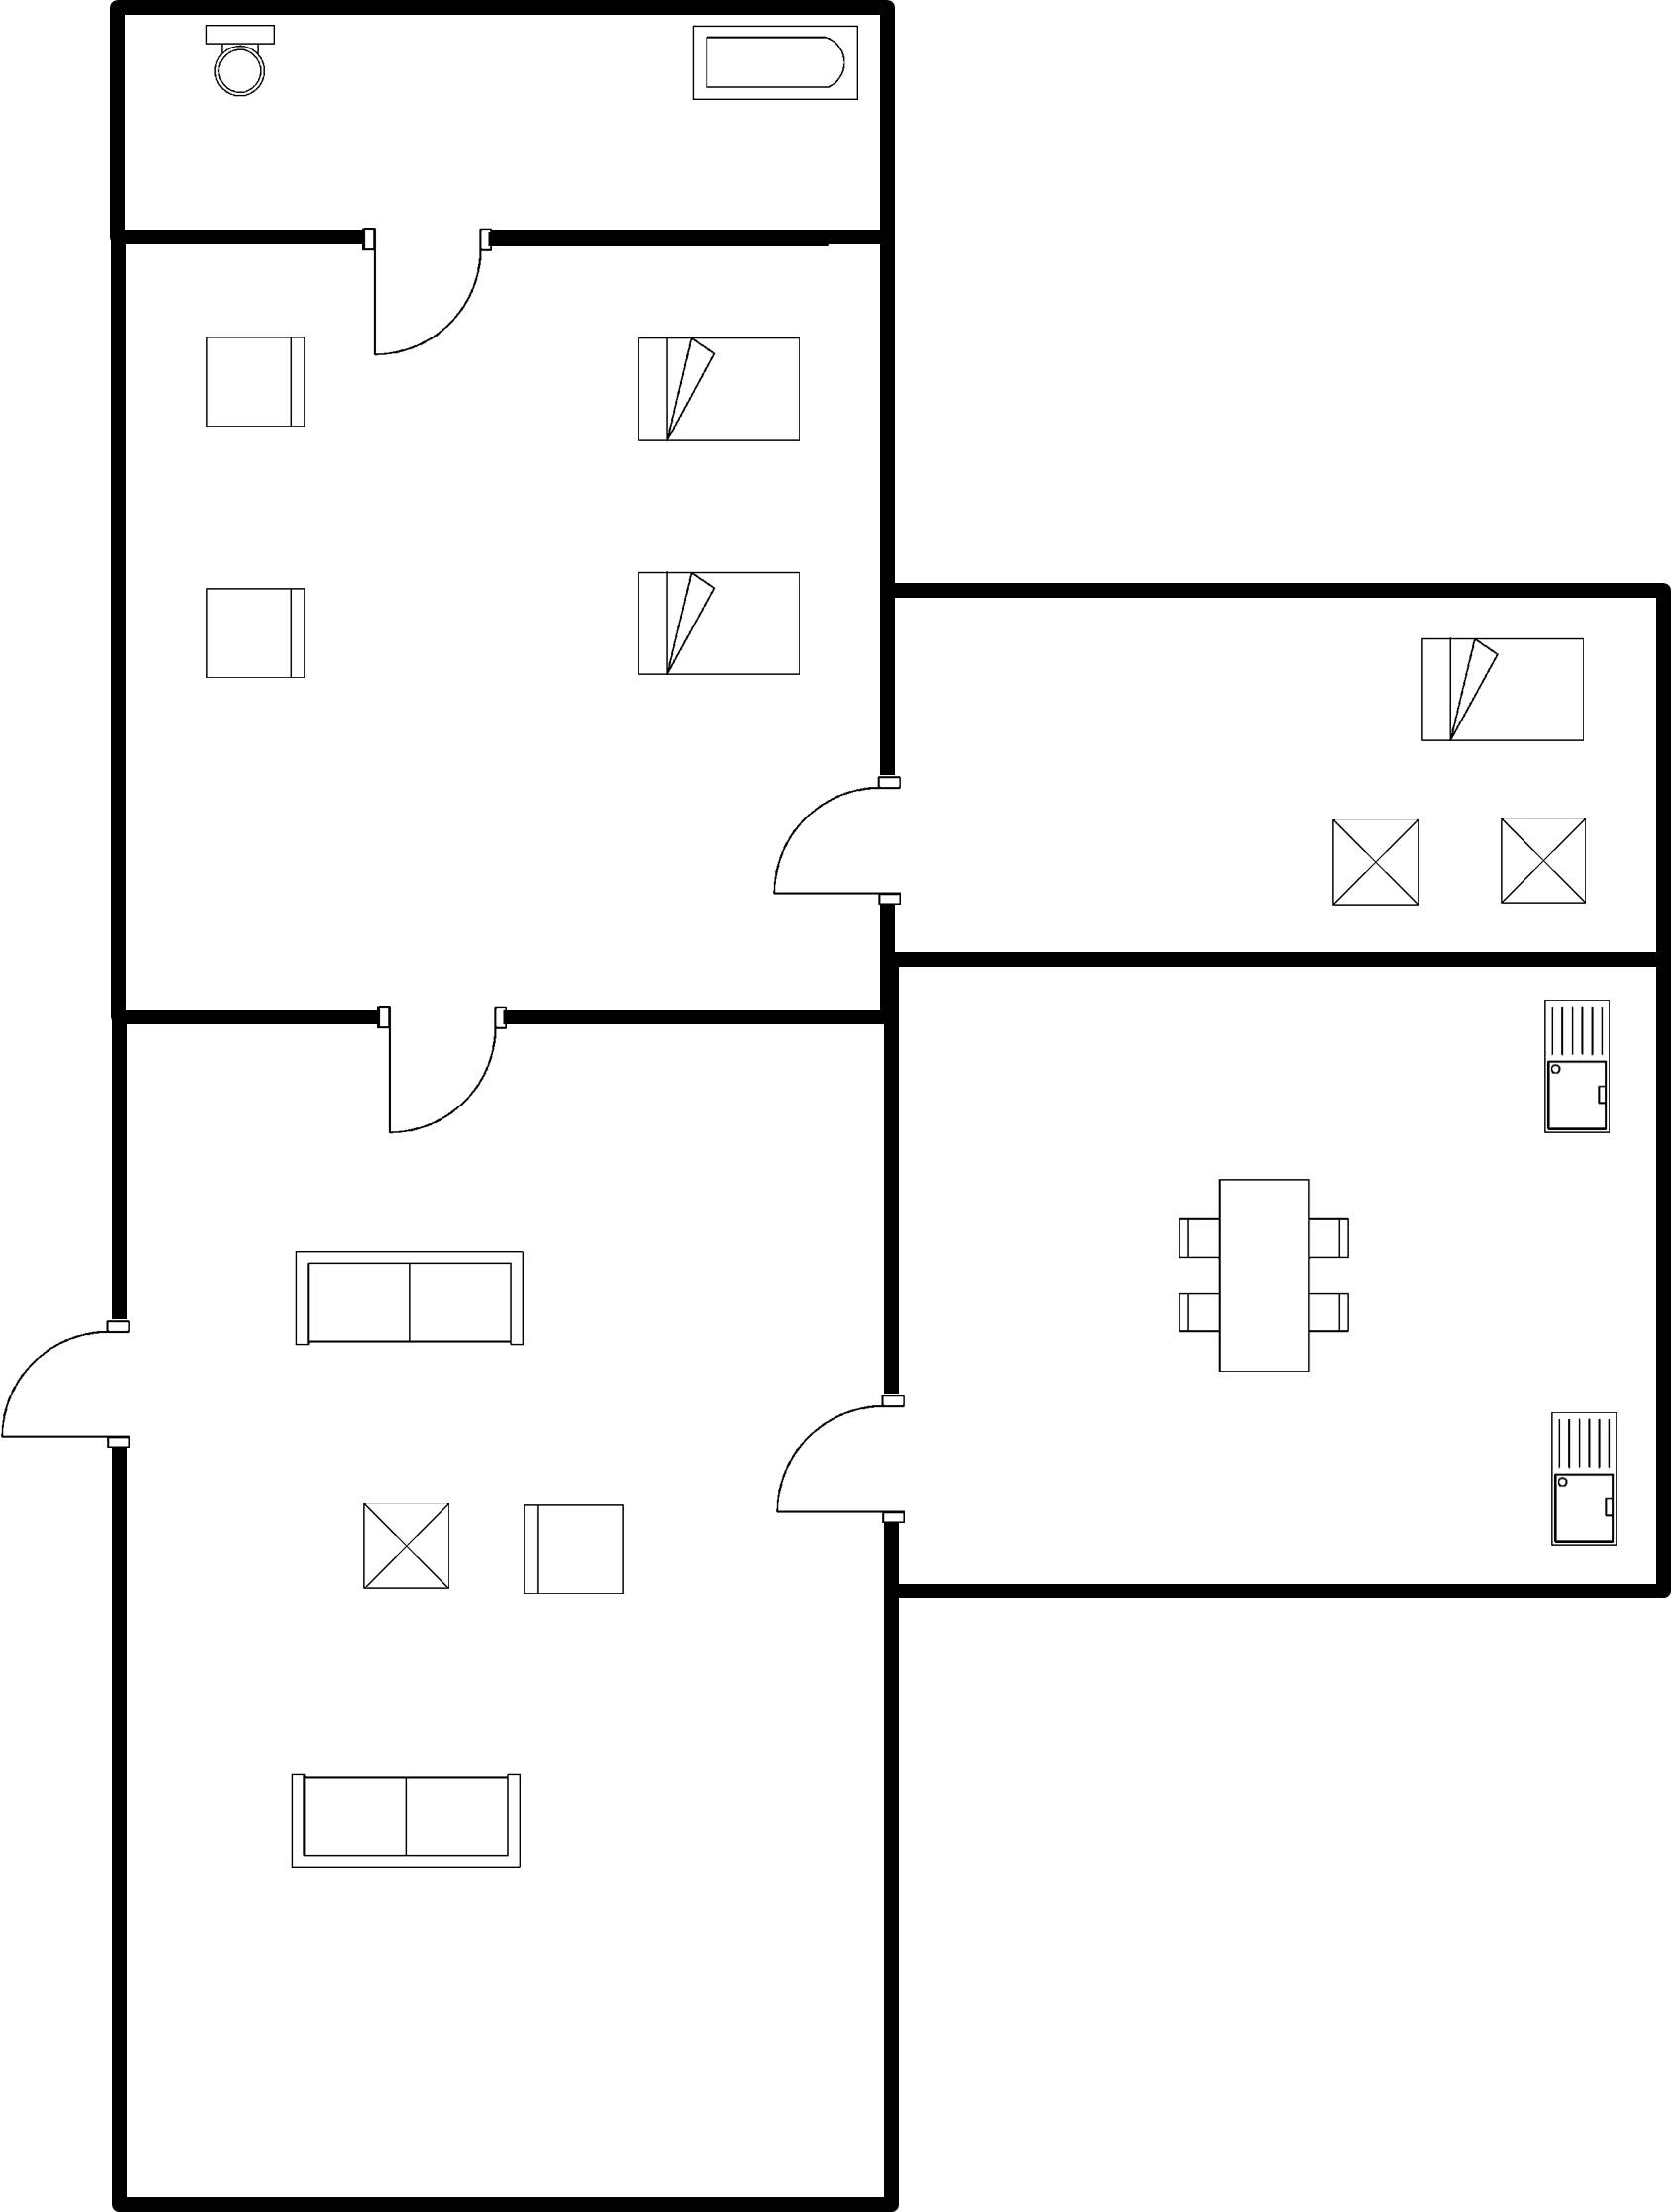bed: (1407, 625, 1609, 761), (617, 325, 815, 460), (624, 556, 813, 695)
coffee_table: (1489, 807, 1614, 918), (1317, 804, 1434, 920), (350, 1489, 462, 1606)
dining_table: (1163, 1161, 1355, 1385)
large_sink: (195, 15, 290, 109)
large_sofa: (277, 1760, 538, 1886), (279, 1239, 538, 1361), (193, 572, 327, 697), (189, 320, 318, 440)
sink: (1531, 1395, 1628, 1557), (1527, 983, 1620, 1150)
small_sofa: (501, 1489, 639, 1613)
tub: (684, 19, 871, 116)
